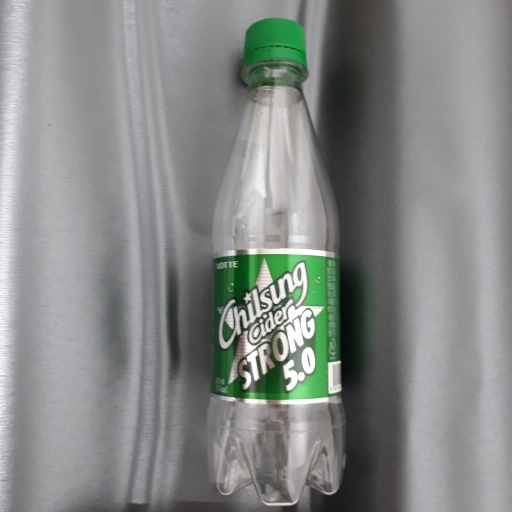Plastic_0: (206, 15, 350, 506)
